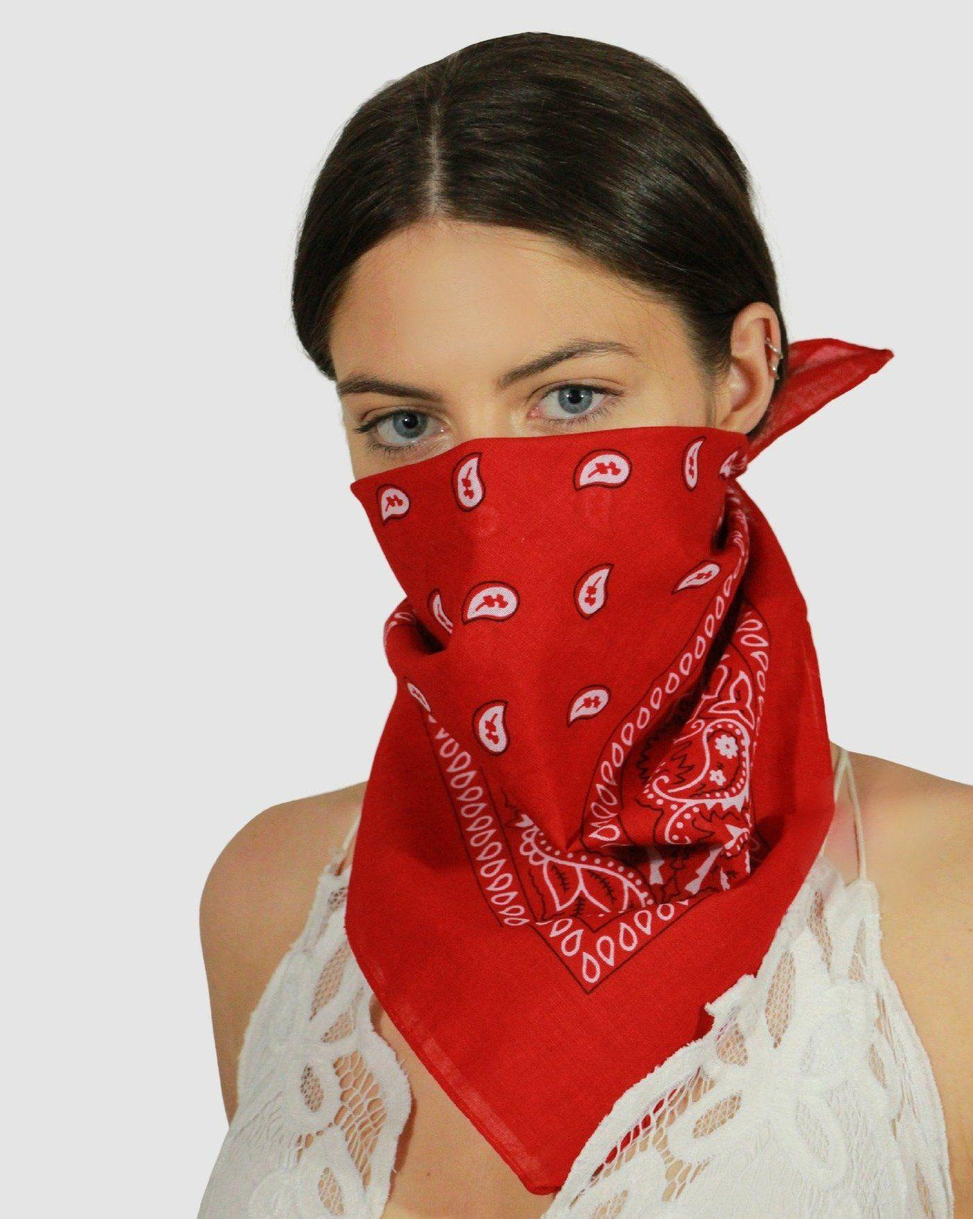scarf-kerchief: (344, 389, 868, 1013)
